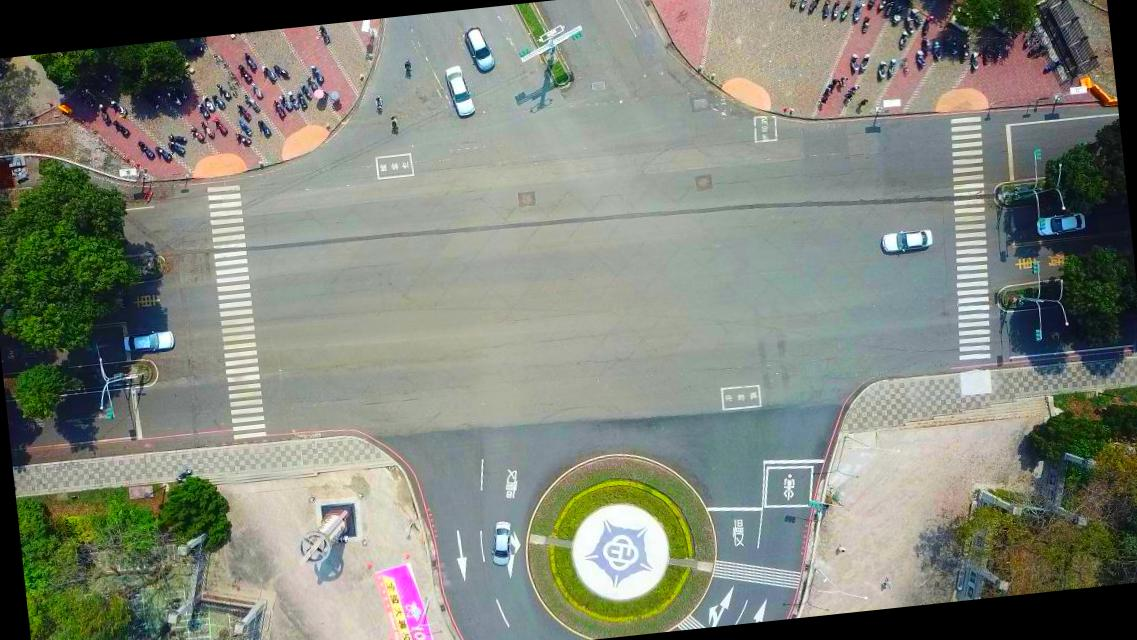vehicle: (444, 61, 478, 120), (464, 24, 497, 75), (878, 225, 936, 253), (121, 328, 176, 354), (488, 517, 516, 567), (1034, 212, 1090, 236)
